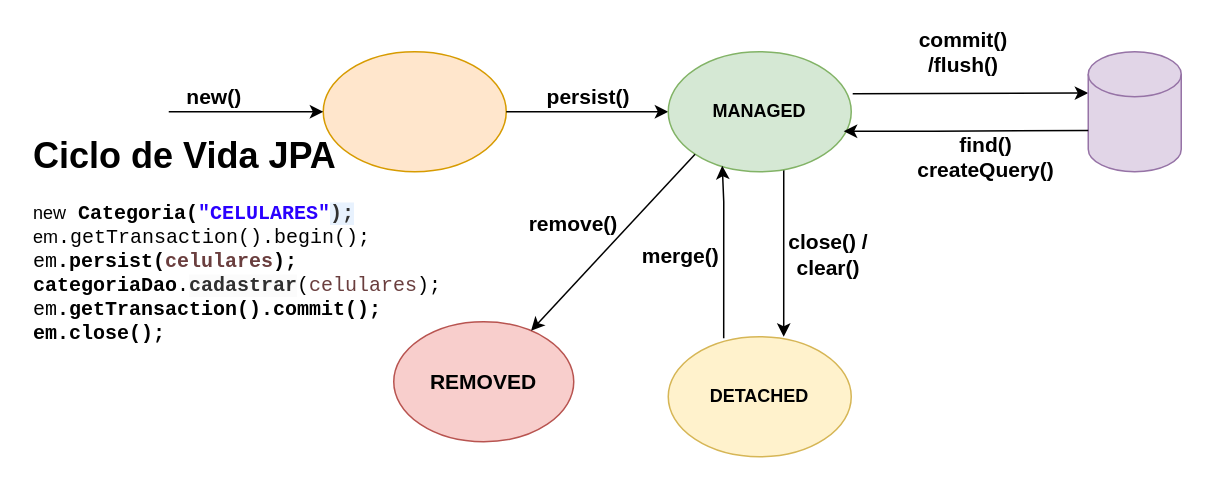
Some shapes in this 1208 by 483 pixel diagram are drawn without their labels. The centre of each missing label's shape, as x and y in pixels:
"BD" belongs at point 1134,111.
"TRANSIENT" belongs at point 414,111.
